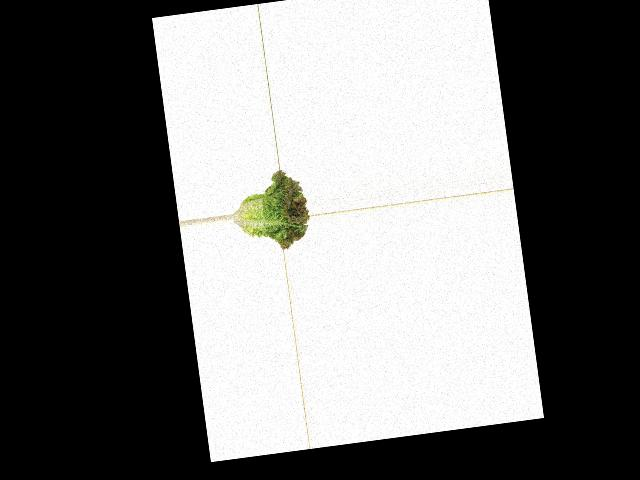lettuce: (227, 167, 312, 255)
